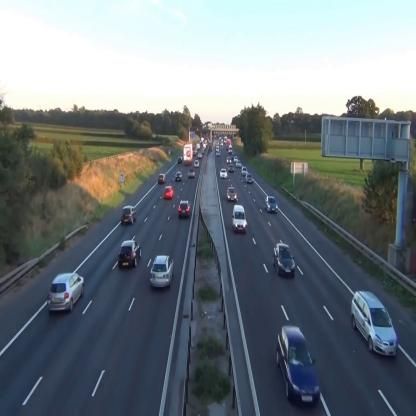car: (275, 327, 320, 406), (352, 291, 398, 358), (48, 272, 85, 313), (150, 256, 174, 289), (273, 244, 295, 278), (118, 240, 142, 266), (121, 206, 137, 224), (264, 195, 278, 214), (178, 200, 191, 218), (164, 185, 174, 199), (227, 187, 237, 200), (220, 167, 228, 179), (158, 173, 166, 184), (246, 174, 254, 184), (188, 169, 195, 177), (176, 172, 181, 182), (228, 164, 234, 172), (226, 156, 232, 164), (194, 159, 199, 167), (236, 159, 241, 167), (242, 167, 247, 175), (178, 156, 182, 164), (198, 152, 202, 158)
lorry: (232, 204, 247, 233), (183, 144, 193, 164)
